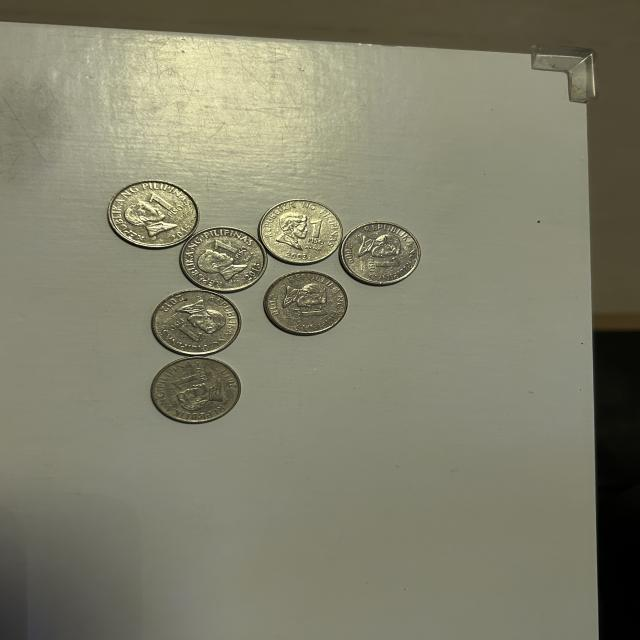1_Old_Front: (205, 234, 254, 264), (366, 251, 406, 282), (171, 366, 214, 394), (146, 187, 185, 216), (282, 306, 334, 327), (298, 217, 327, 250), (160, 320, 200, 340)
